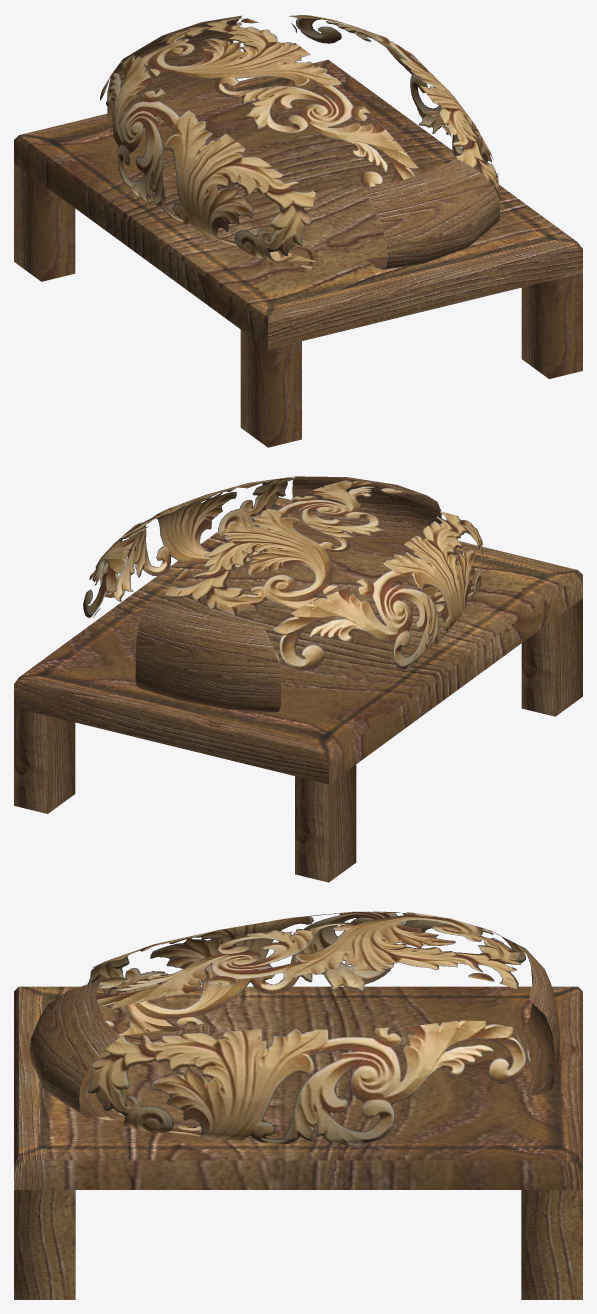
Rendered from Chair_8.FBX.
3 views of the same model, one above another, from view 1: azimuth 30°, elevation 25°; view 2: azimuth 150°, elevation 25°; view 3: azimuth 270°, elevation 25° (orthographic). The views are drawn at different scales.
Parts seen in each view (by area): view 1: Chair_8; view 2: Chair_8; view 3: Chair_8.
Boxes of the visible parts, left/top/right/bottom form: Chair_8: left=14, top=15, right=582, bottom=447; Chair_8: left=14, top=476, right=582, bottom=882; Chair_8: left=14, top=911, right=582, bottom=1299.
Size of the model in its own units: 15.1 by 10.85 by 21.08.
